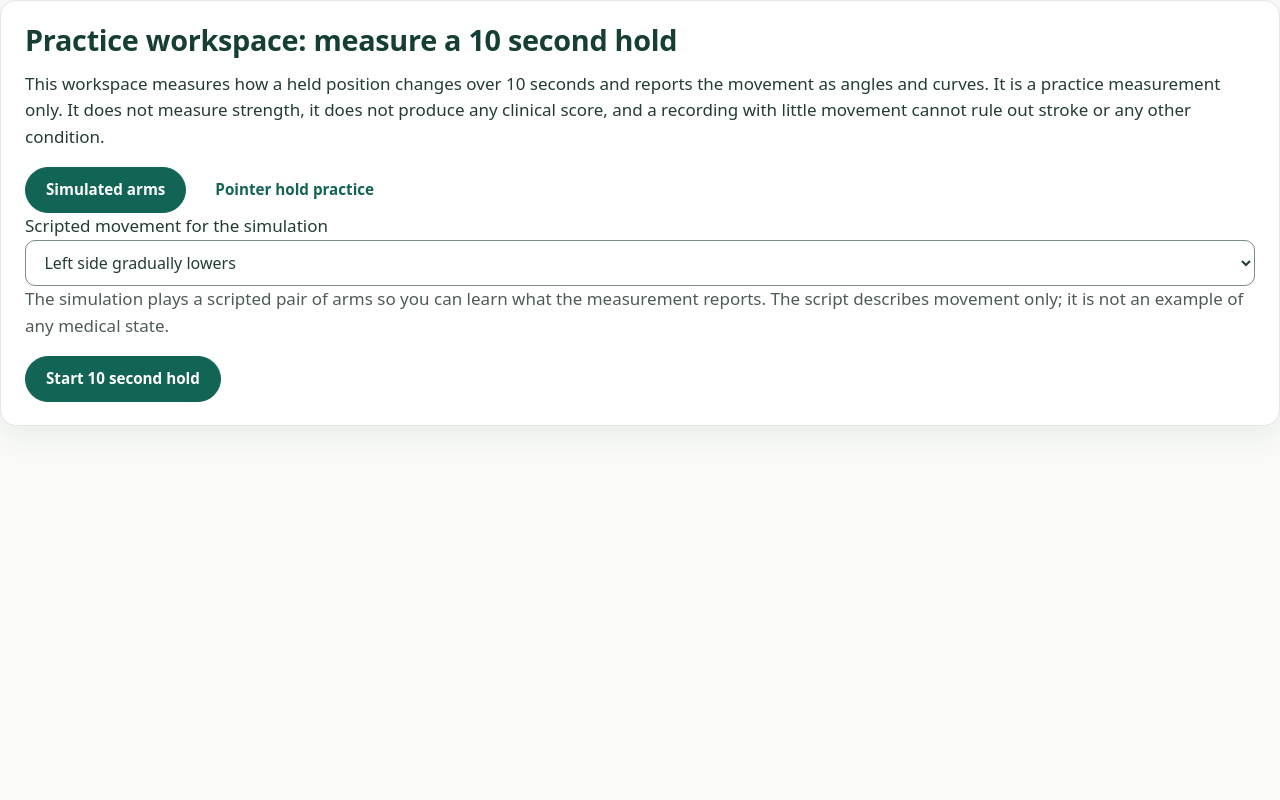
Test: ArmDriftLab › runs a simulated session to quantitative results
Step 1. Click the button "Start 10 second hold" → (123,379), box [25,356,221,402]
Wait 13000 ms
(page scrolled)
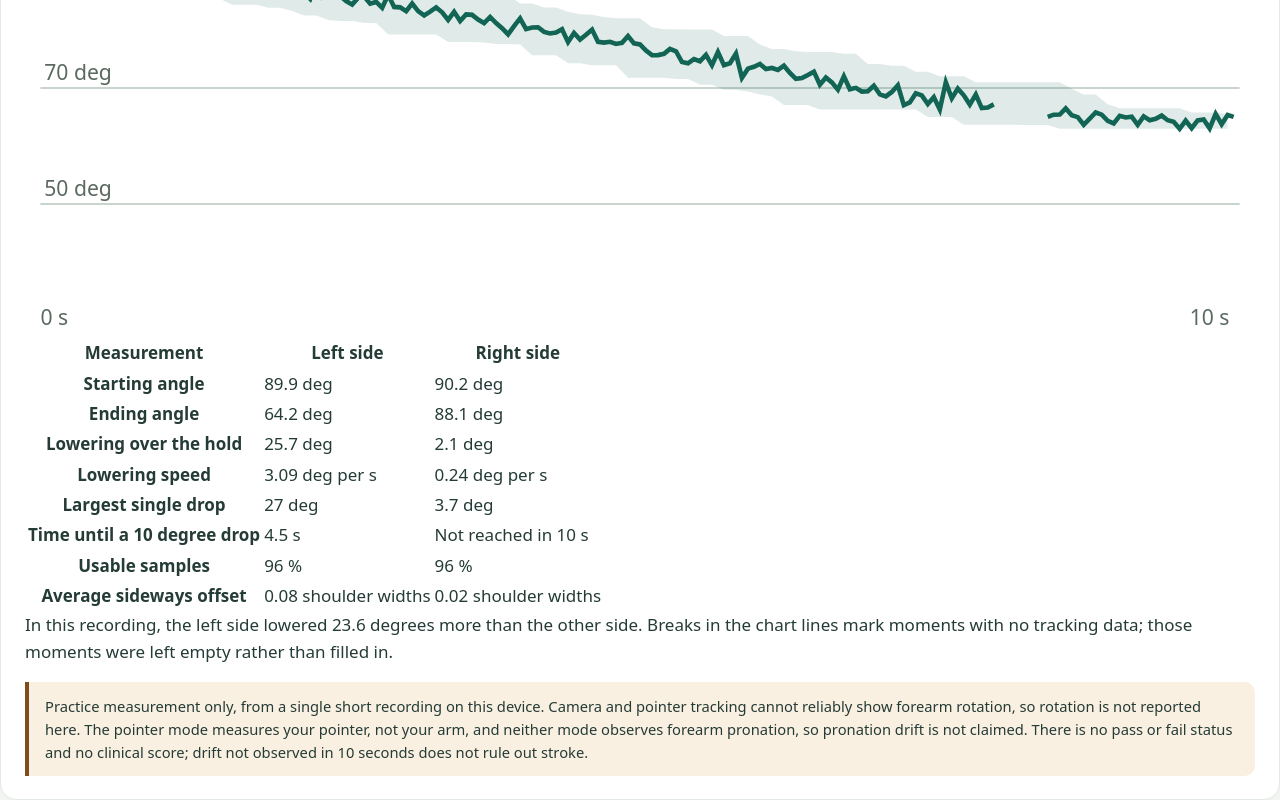
Now the column heading "Lowering over the hold" is shown, box [27,430,261,459]
Now the column heading "Lowering speed" is shown, box [27,461,261,489]
Now the column heading "Usable samples" is shown, box [27,552,261,580]
